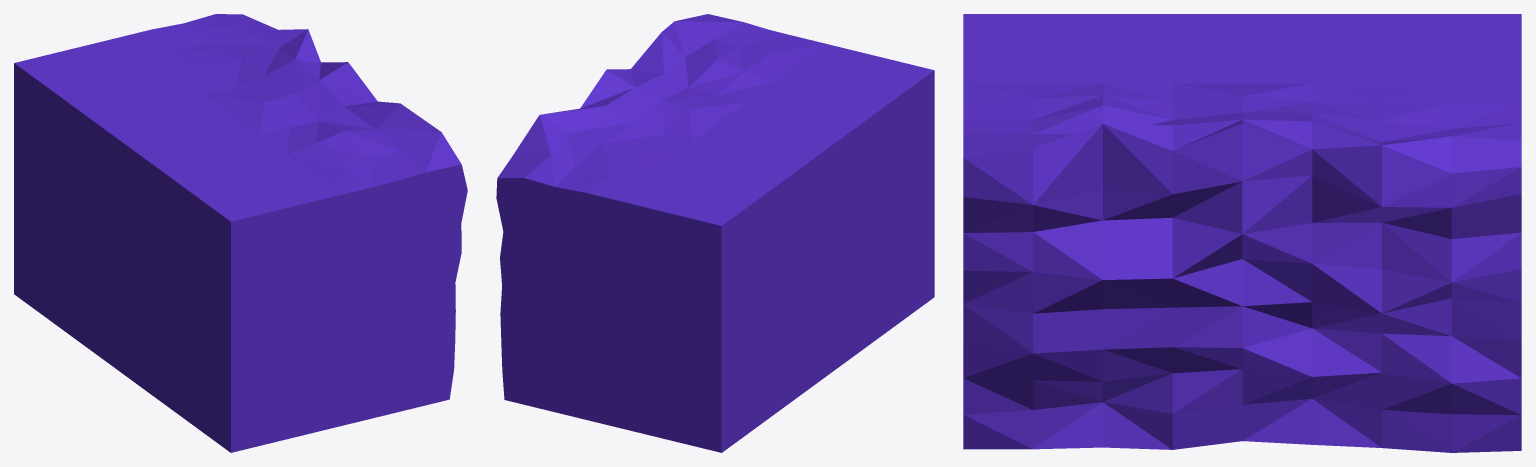
3 views of the same model, side by side, from view 1: azimuth 30°, elevation 25°; view 2: azimuth 150°, elevation 25°; view 3: azimuth 270°, elevation 25° (orthographic). The views are drawn at different scales.
Parts seen in each view (by area): view 1: Cube; view 2: Cube; view 3: Cube.
Part boxes in pixels (x1=…): Cube: x1=14, y1=14, x2=467, y2=452; Cube: x1=496, y1=14, x2=934, y2=452; Cube: x1=963, y1=14, x2=1521, y2=452.
Bounding box in the file's own units: 2.32 × 2.22 × 3.4.
